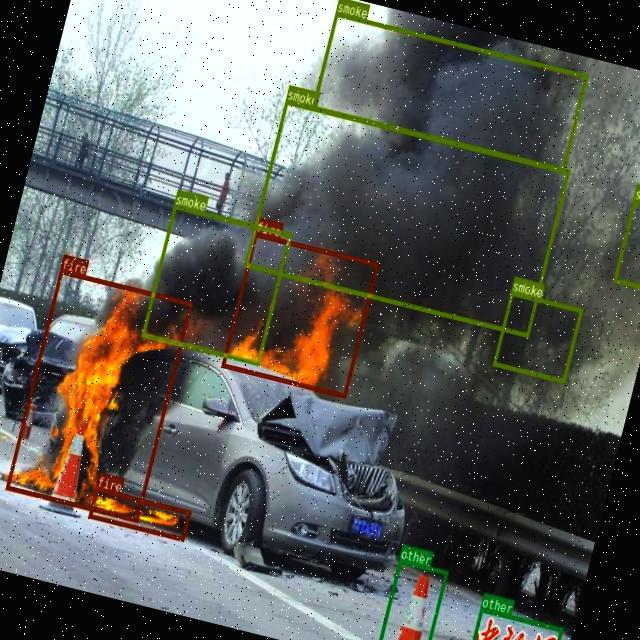fire: (5, 268, 192, 521), (220, 230, 378, 398), (87, 486, 191, 540)
smoke: (243, 98, 570, 336), (310, 10, 588, 172), (140, 202, 291, 364), (492, 290, 582, 382), (613, 198, 640, 291)
